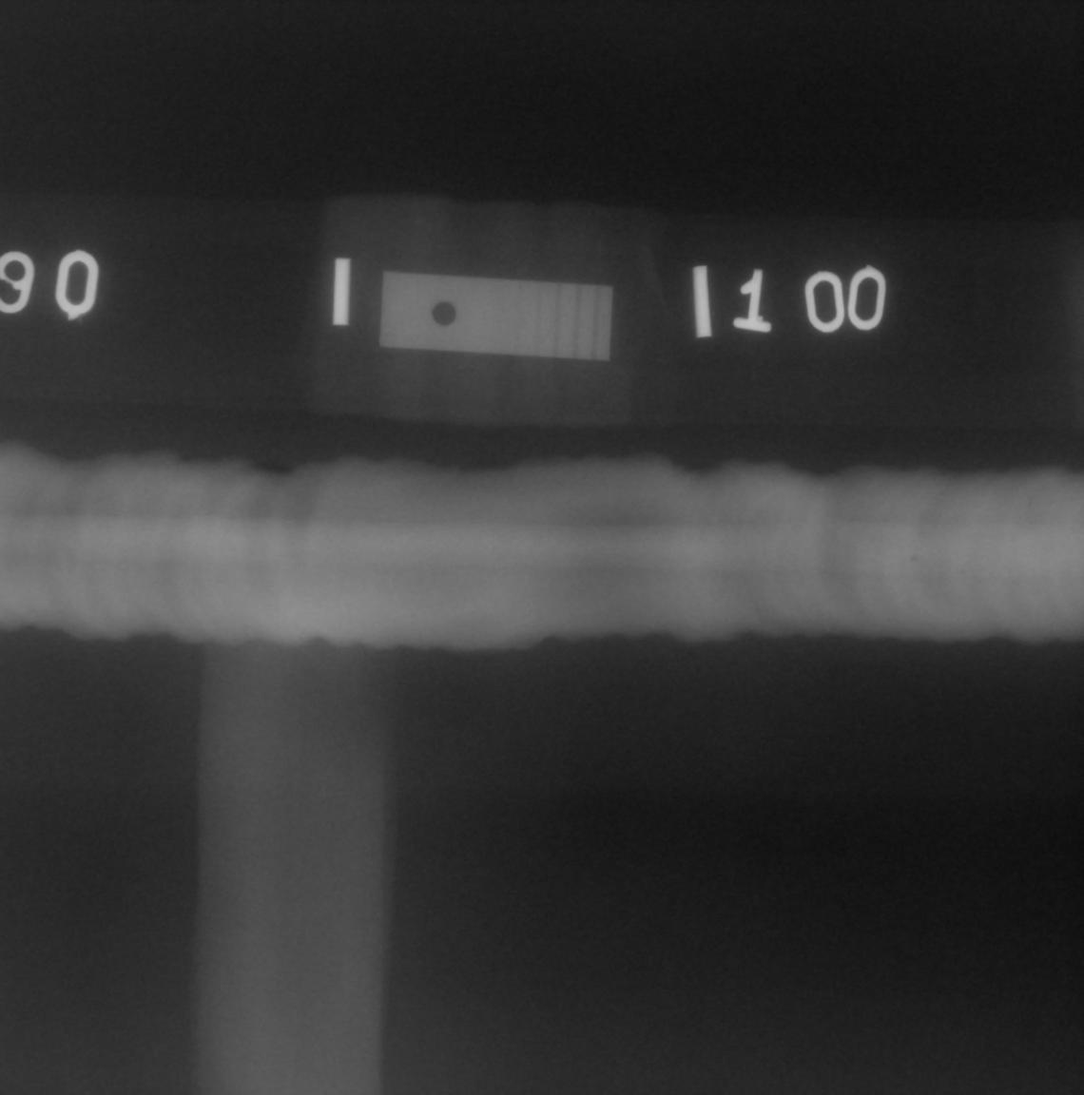Pore/Porosity: (910, 556, 916, 561), (989, 571, 994, 576), (959, 570, 965, 574)
Reference Standard 1: (380, 271, 613, 360)
Undercut: (258, 463, 289, 473)
